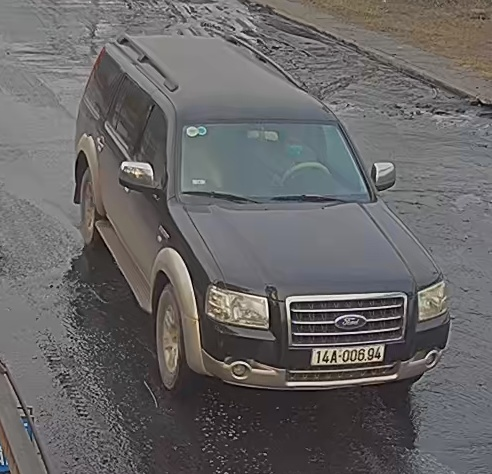vehicle plate: (304, 341, 395, 369)
